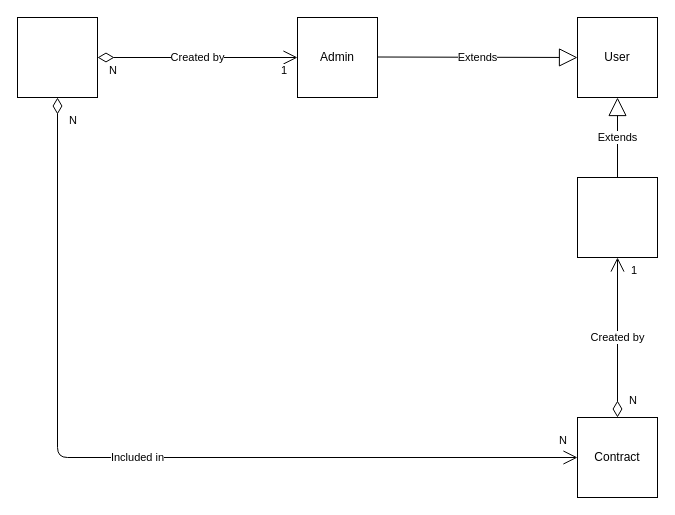
Some shapes in this 675 by 515 pixel diagram are drawn without their labels. The shapes that lost their labels are listed below. From the top down, each one's box as (x1, y1, x2, y2) in pixels, then its label:
(16, 16, 98, 98): Book
(576, 176, 658, 258): End user
